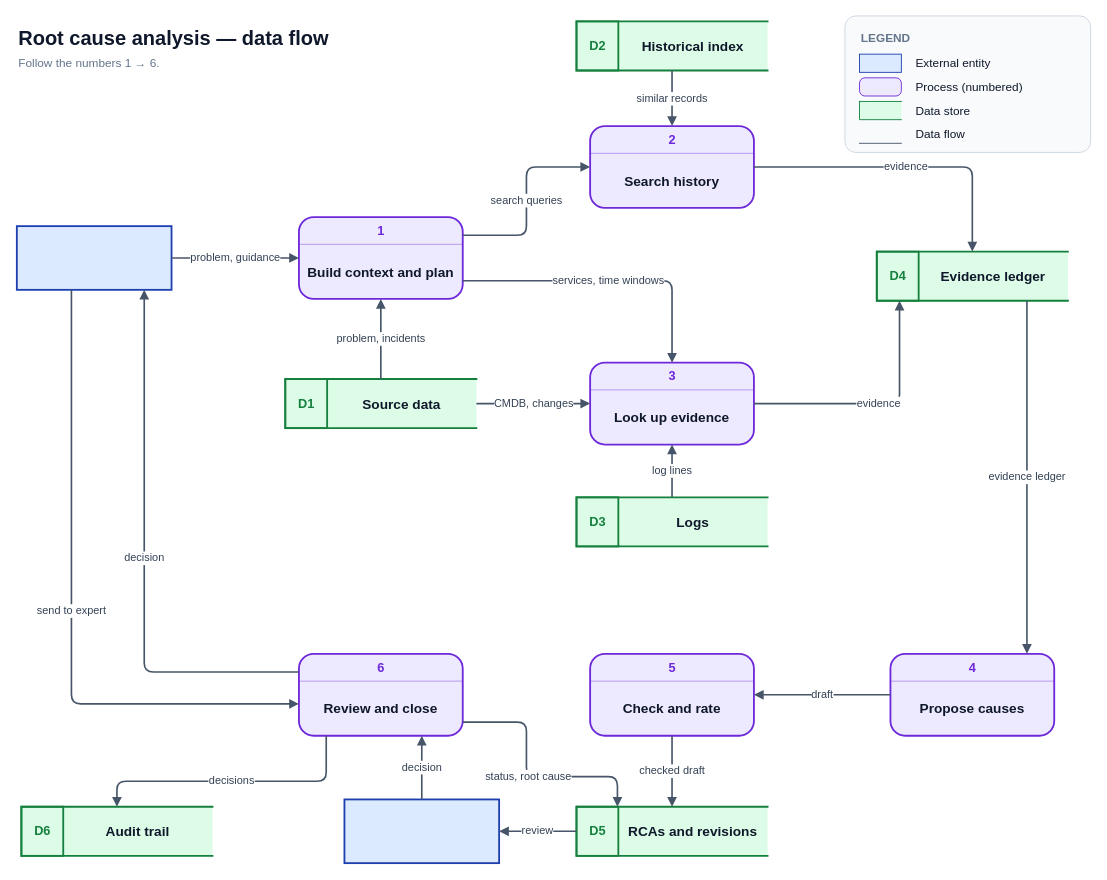
This 1107x880 diagram has some shape labels left out. The centre of each missing label's shape, as x and y in pixels:
"Problem Manager" belongs at (93,257).
"Technical Expert" belongs at (421,831).
